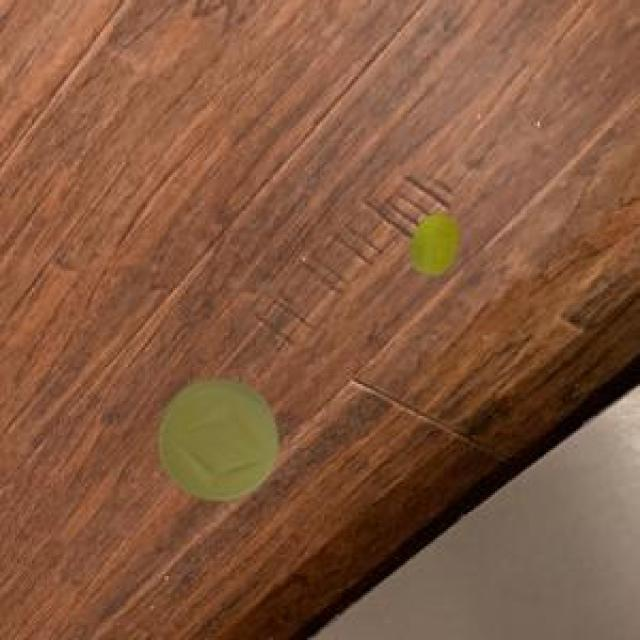Decolgen: (144, 355, 290, 521), (392, 191, 489, 293)
